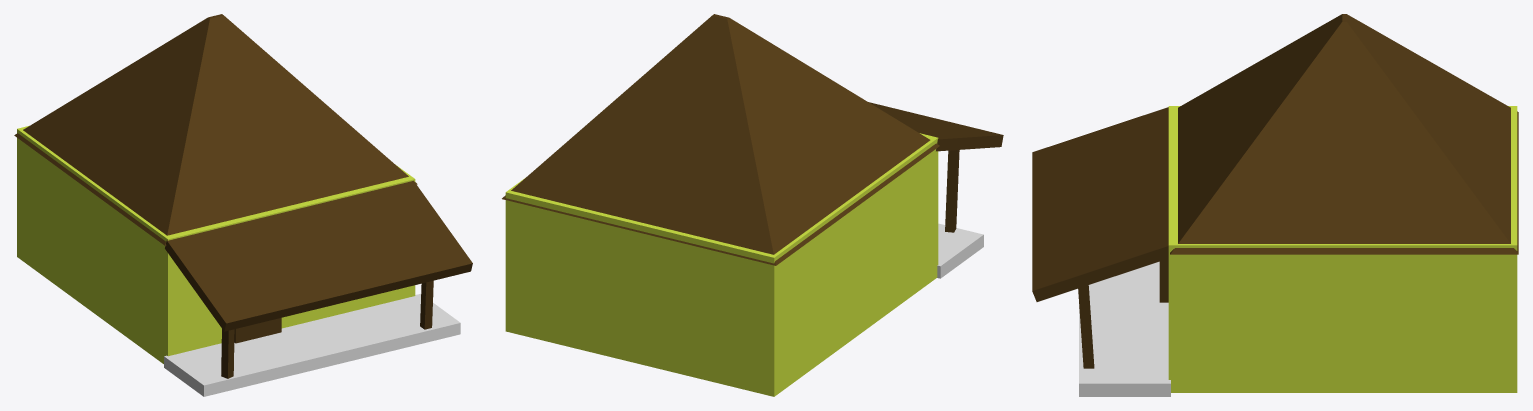
File: home color.fbx
3 renders of one model, left to right at view 1: azimuth 30°, elevation 25°; view 2: azimuth 150°, elevation 25°; view 3: azimuth 270°, elevation 25°, orthographic. The views are drawn at different scales.
Visible parts, largest first — view 1: Cube.003, Cube.002, Cube, Cube.004, Cube.001, Cube.008, Cube.005; view 2: Cube, Cube.003, Cube.002, Cube.004, Cube.008; view 3: Cube.003, Cube, Cube.002, Cube.004, Cube.005, Cube.001.
Boxes of the visible parts, x1,y1,x2,y2 form: Cube.003: [14, 14, 417, 245]; Cube.002: [165, 180, 472, 331]; Cube: [17, 125, 415, 363]; Cube.004: [164, 293, 460, 396]; Cube.001: [234, 318, 281, 343]; Cube.008: [221, 329, 234, 378]; Cube.005: [420, 280, 433, 329]; Cube: [505, 133, 938, 396]; Cube.003: [502, 14, 939, 265]; Cube.002: [868, 102, 1003, 151]; Cube.004: [937, 223, 983, 278]; Cube.008: [945, 150, 959, 232]; Cube.003: [1170, 14, 1518, 254]; Cube: [1168, 106, 1517, 392]; Cube.002: [1032, 107, 1168, 301]; Cube.004: [1079, 261, 1170, 396]; Cube.005: [1078, 285, 1094, 368]; Cube.001: [1159, 258, 1168, 302].
Size of the model in its own units: 614 by 606 by 873.
